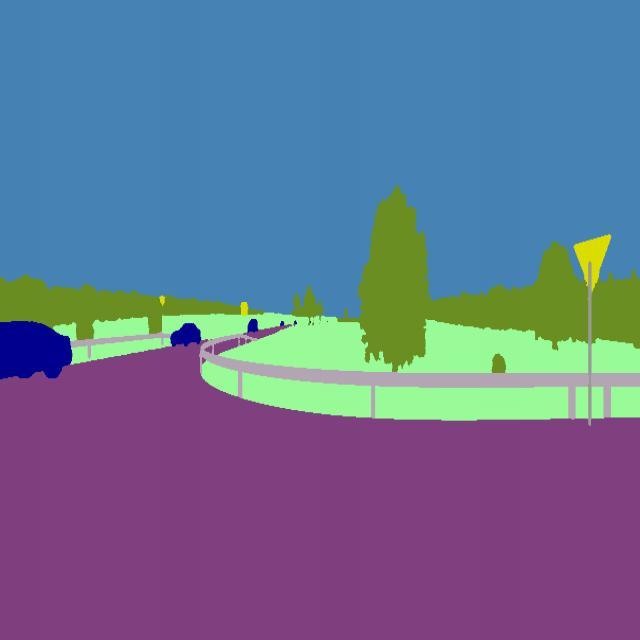safe: (0, 314, 75, 382), (168, 318, 202, 350), (246, 316, 262, 339)
